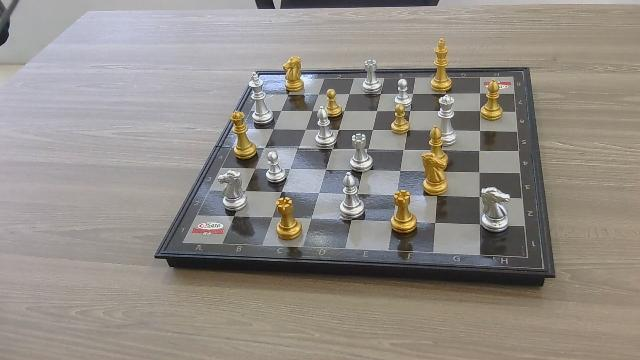black_bishop: (341, 172, 365, 219), (481, 78, 506, 122), (428, 124, 444, 153)
black_king: (433, 37, 450, 92)
black_knight: (422, 154, 449, 196), (281, 56, 307, 94)
black_pawn: (325, 88, 345, 120), (392, 102, 411, 135)
black_queen: (230, 110, 258, 160)
black_rook: (274, 195, 303, 241), (391, 190, 419, 235)
white_bishop: (316, 106, 337, 148)
white_king: (248, 70, 275, 126)
white_knight: (480, 185, 512, 233), (218, 170, 251, 212)
white_pawn: (264, 150, 288, 184), (396, 78, 414, 105)
white_queen: (438, 95, 457, 146)
white_rook: (350, 133, 374, 170), (361, 59, 383, 94)
